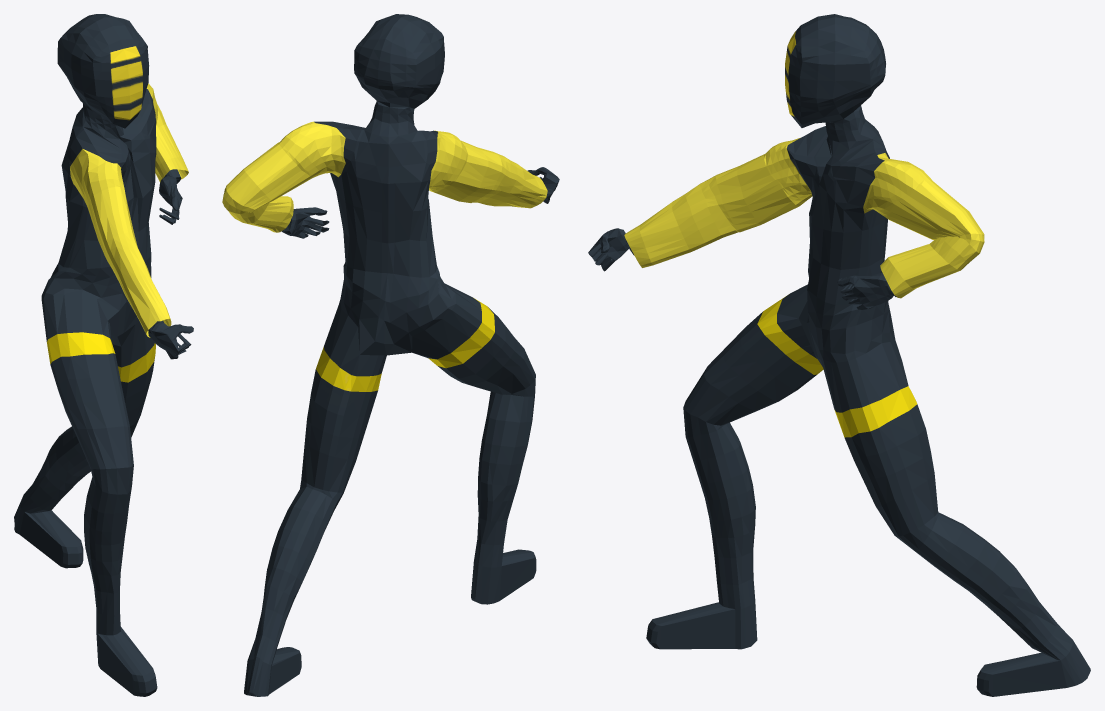
File: Sentry_WL_000027.obj
3 renders of one model, left to right at view 1: azimuth 30°, elevation 25°; view 2: azimuth 150°, elevation 25°; view 3: azimuth 270°, elevation 25°, orthographic. The views are drawn at different scales.
Visible parts, largest first — view 1: Cube; view 2: Cube; view 3: Cube.
Part boxes in pixels (<box>): Cube: <box>14,14,193,696</box>; Cube: <box>222,14,559,696</box>; Cube: <box>588,14,1090,696</box>.
Bounding box in the file's own units: 1.18 × 3.61 × 2.51.
